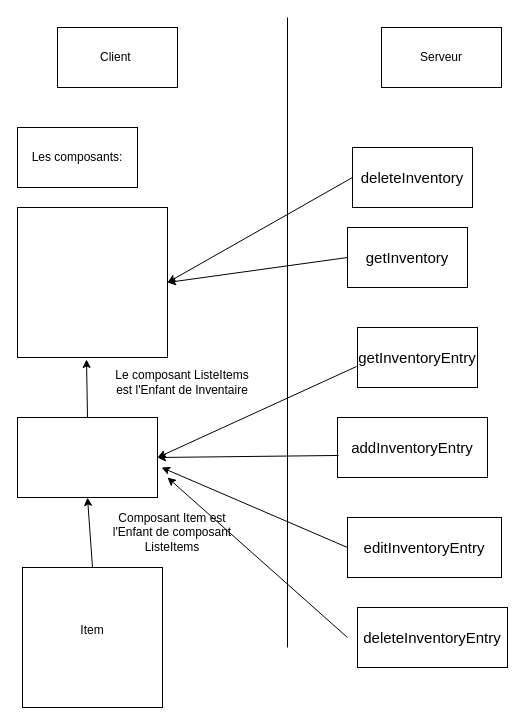
Image size: 525x725. Some labels were removed from this diagram. The centre of each missing label's shape, as x and y in pixels:
"Inventaire" goes at point (92, 282).
"ListeItems" goes at point (87, 457).
